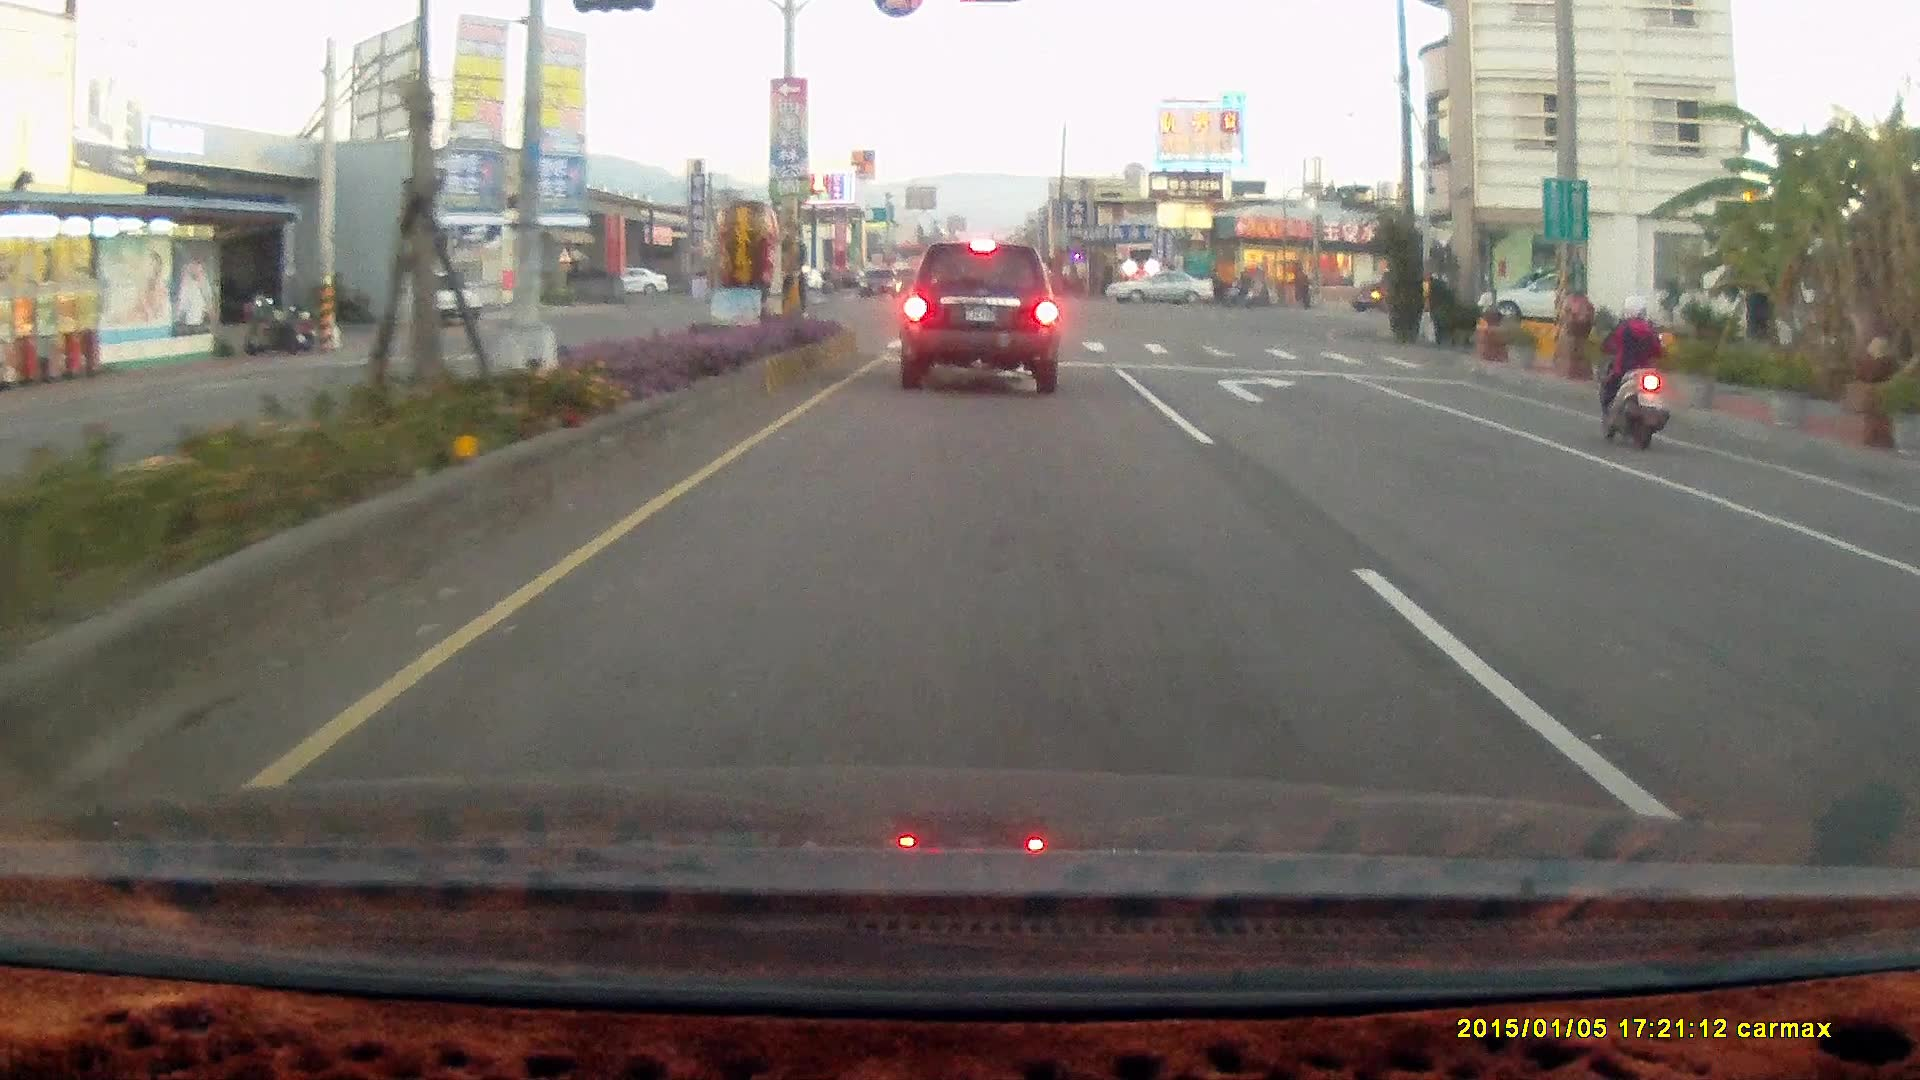rider: (1592, 300, 1672, 460), (1221, 269, 1259, 310)
vehicle: (898, 241, 1062, 393), (1476, 266, 1614, 330), (1896, 493, 1920, 836), (1482, 271, 1592, 334), (1883, 528, 1920, 690), (408, 272, 486, 329), (1104, 267, 1214, 306), (1106, 269, 1214, 309), (1347, 267, 1435, 312)
